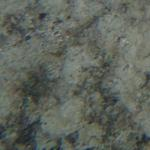dead: (1, 1, 148, 148)
